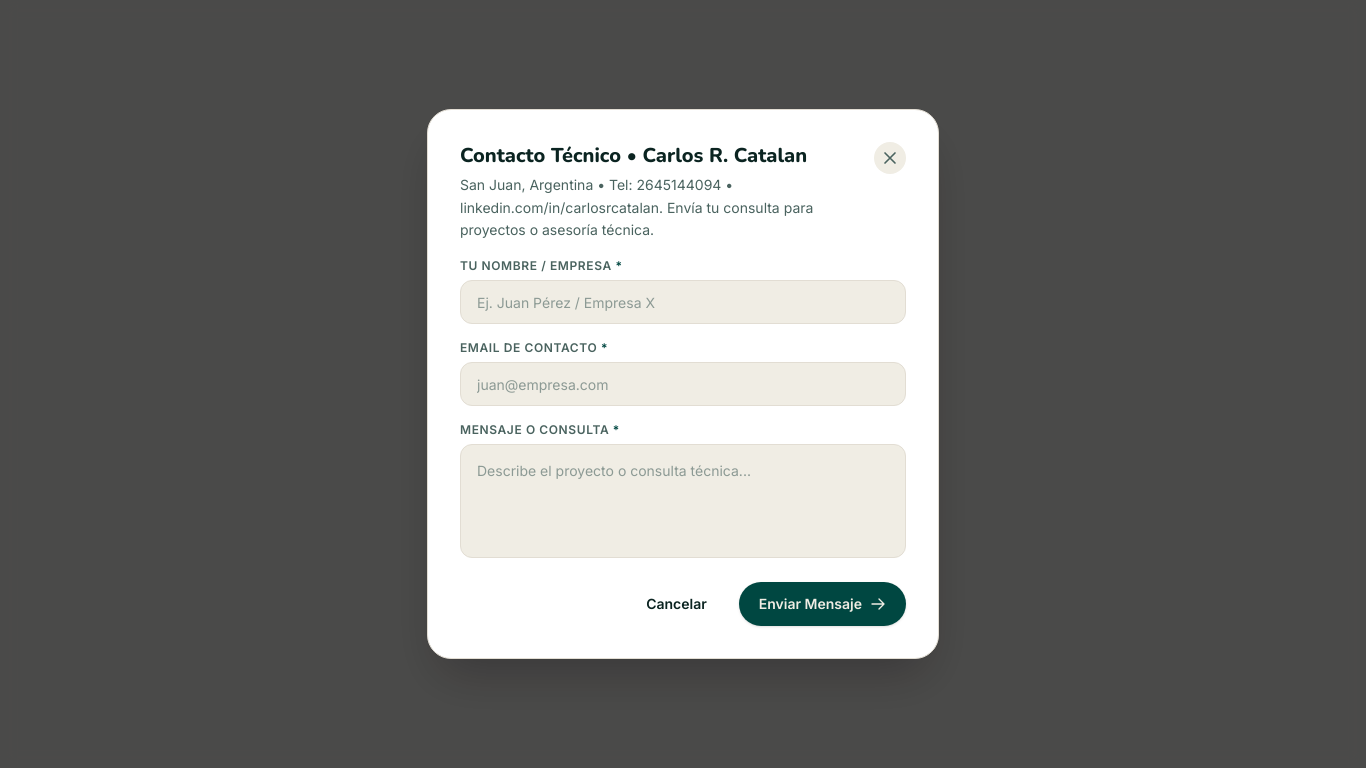
Scenario: ContactModal › submits form and displays success alert
The image size is (1366, 768).
Step 1. Type "Carlos Test" into the field labelled "Tu Nombre / Empresa *" → (683, 302), box [460,280,906,324]
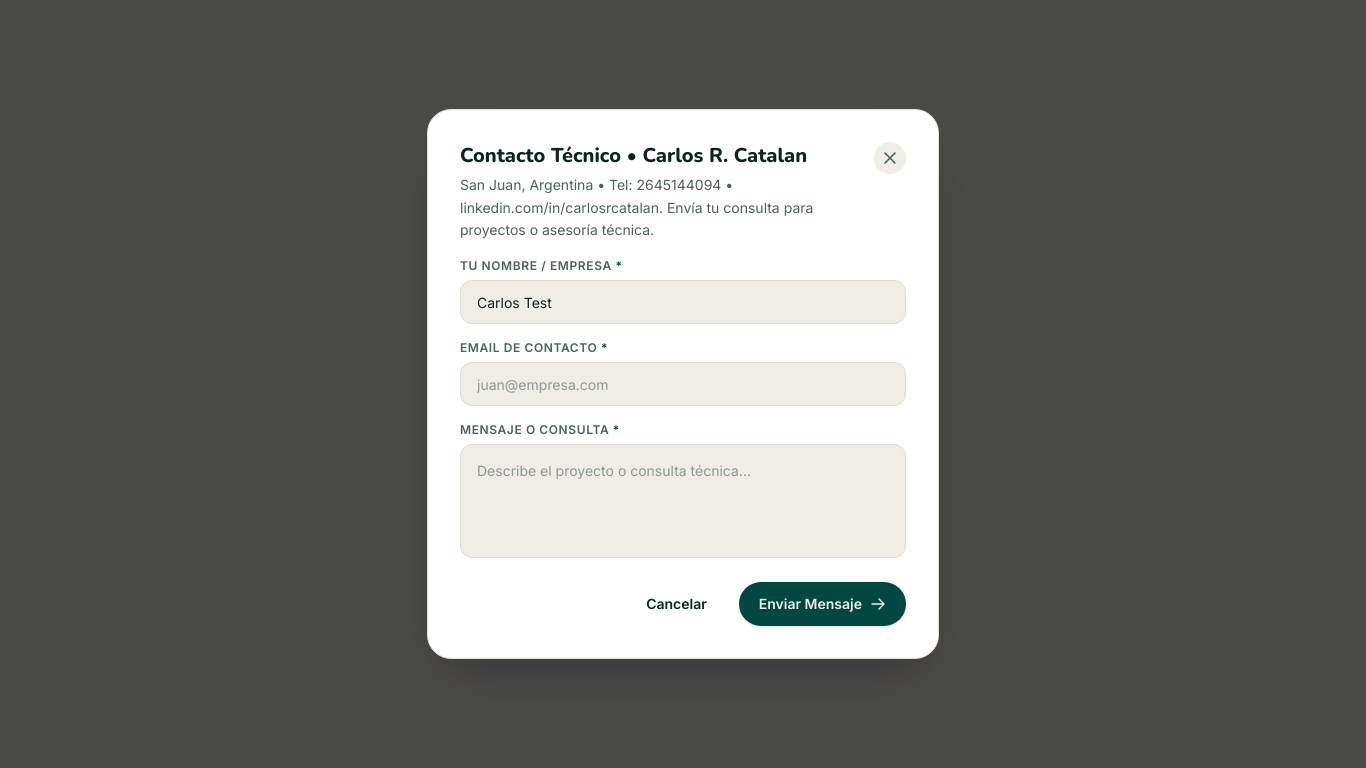
Step 2. Type "carlos@test.com" into the field labelled "Email de Contacto *" → (683, 384), box [460,362,906,406]
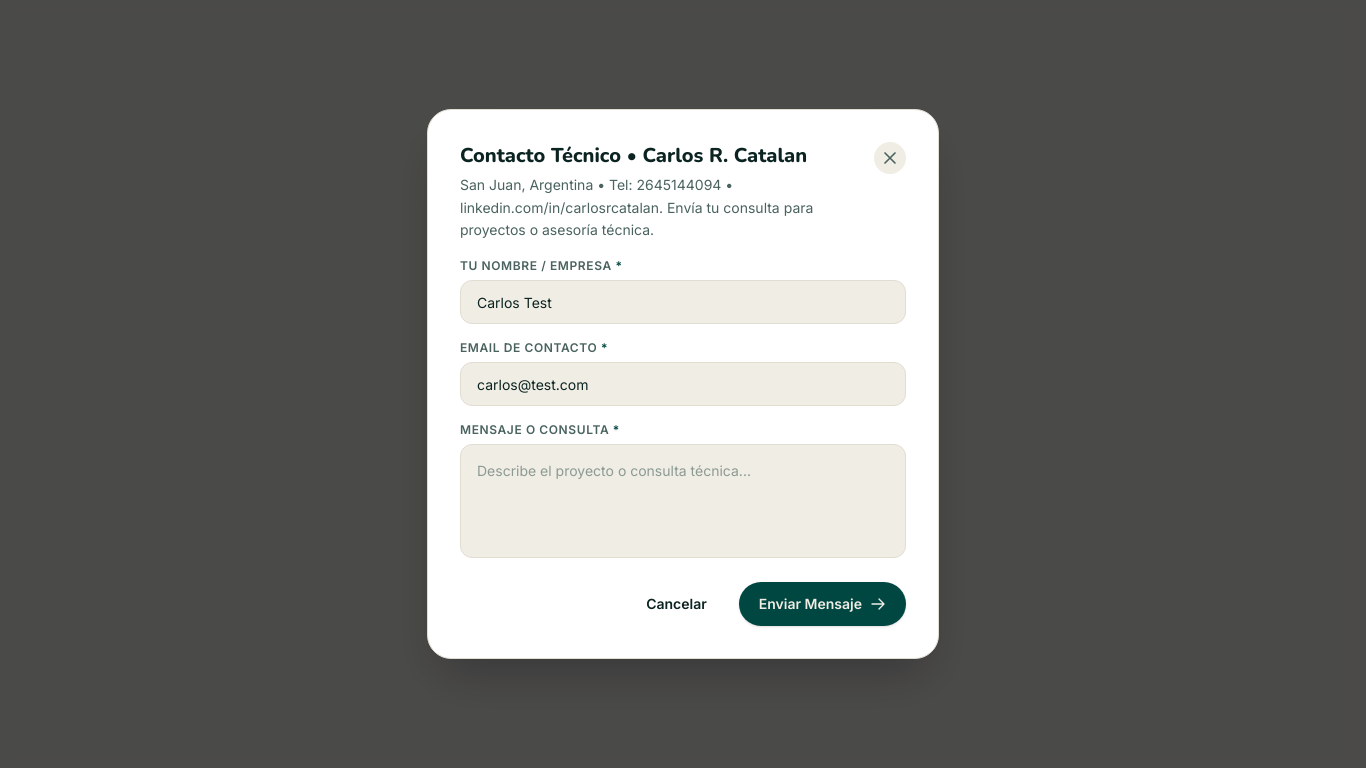
Step 3. Type "Consulta de desarrollo web" into the text box labelled "Mensaje o Consulta *" → (683, 501), box [460,444,906,558]
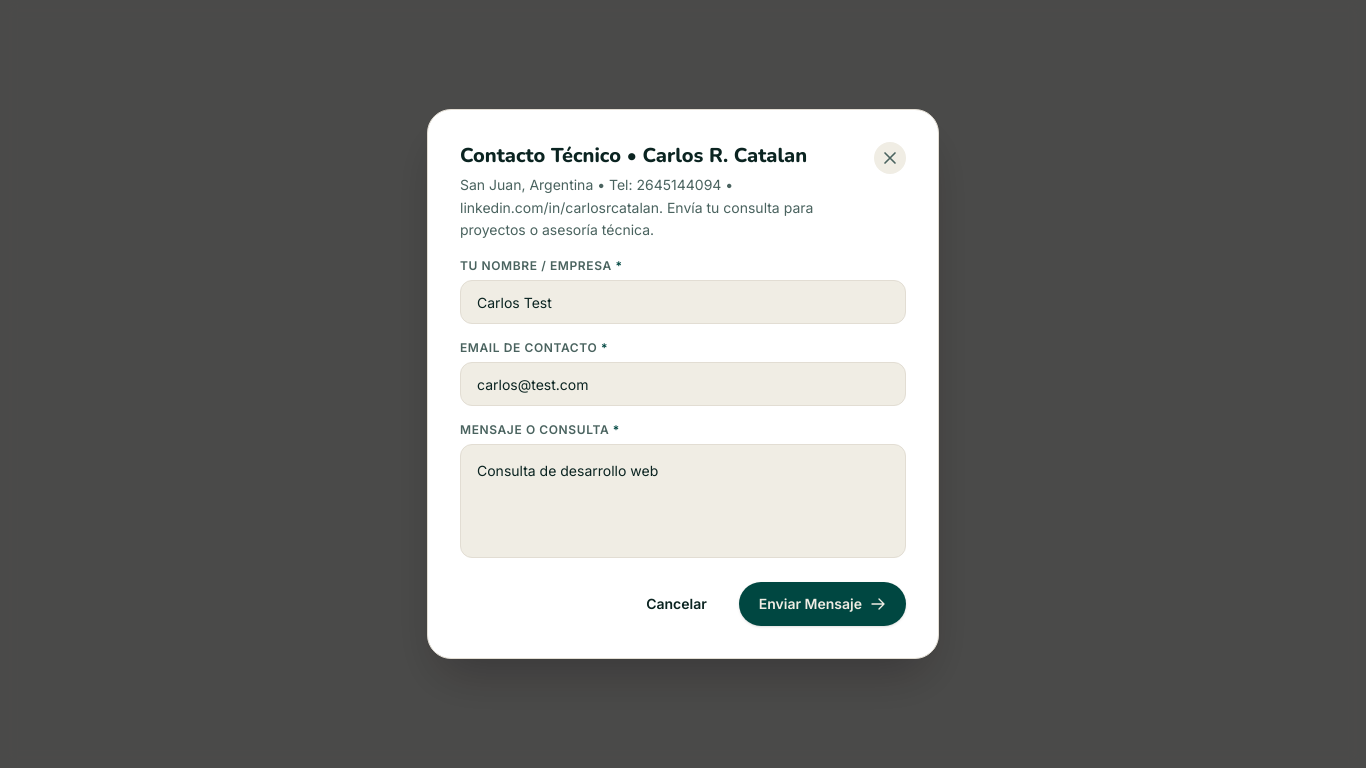
Step 4. Click the button "Enviar Mensaje" → (822, 604), box [739,582,906,626]
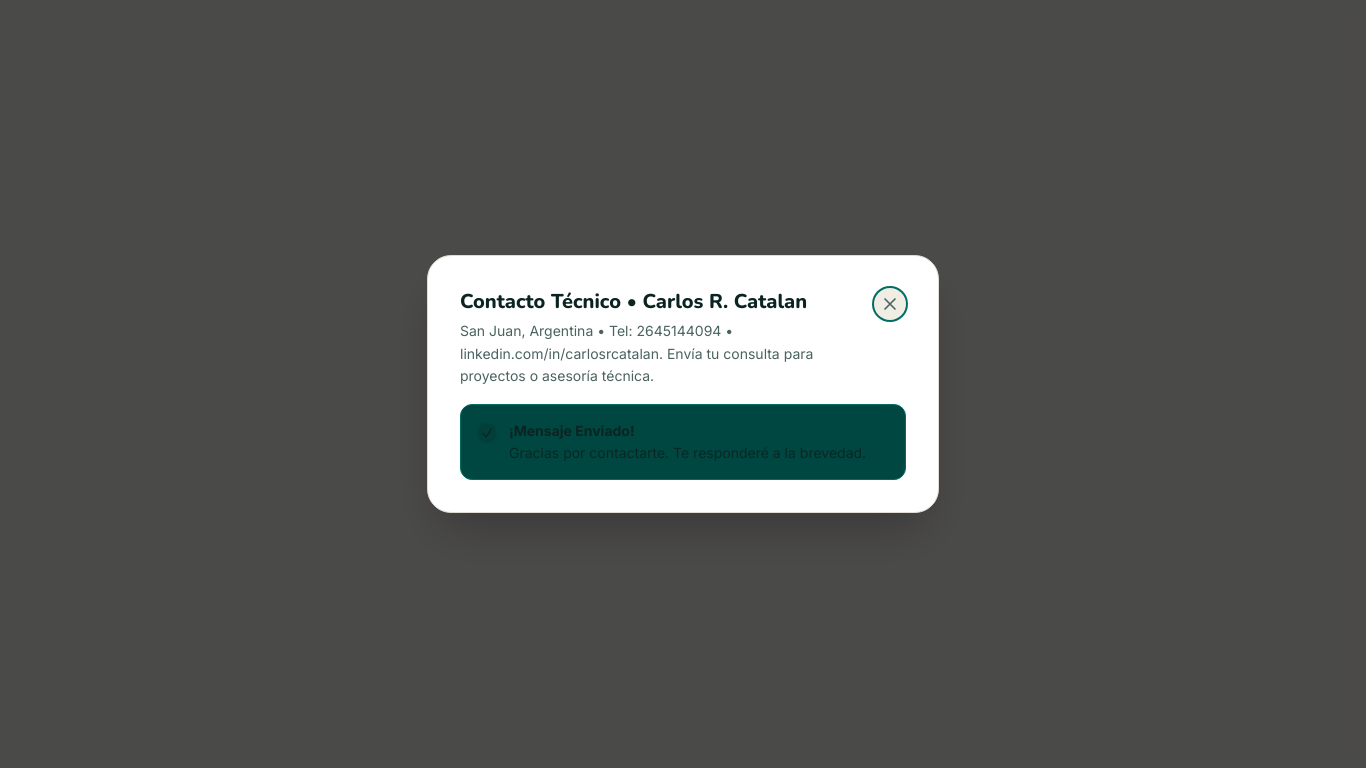
Expected: the text "¡Mensaje Enviado!" is shown, [509,422,635,439]
